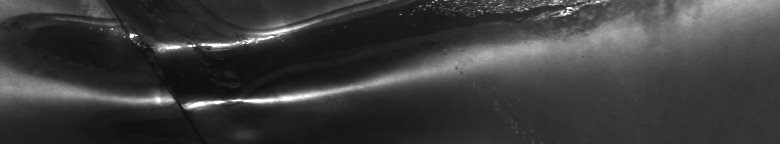ke: (26, 4, 590, 116)
